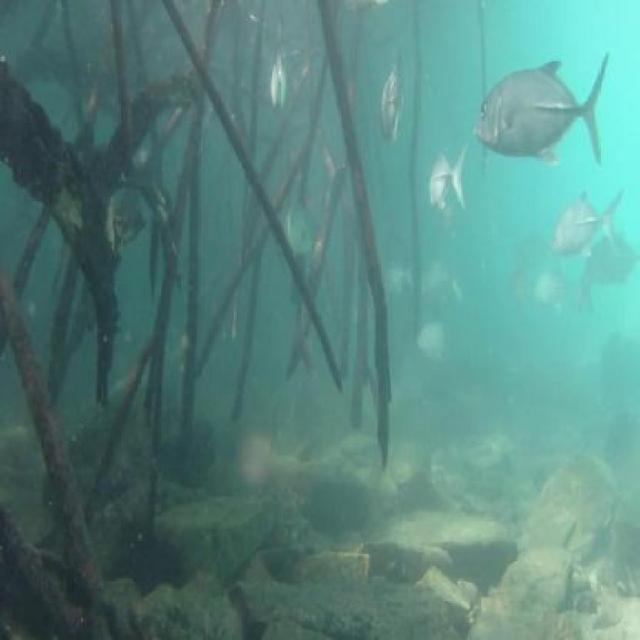Caranx_sexfasciatus_juvenile: (474, 46, 609, 171), (551, 185, 623, 260), (258, 30, 299, 132), (578, 229, 634, 297), (372, 46, 410, 146), (423, 139, 463, 224), (281, 186, 319, 268), (415, 243, 457, 315), (403, 312, 446, 368), (528, 258, 566, 312), (378, 244, 412, 302), (503, 254, 537, 308)
